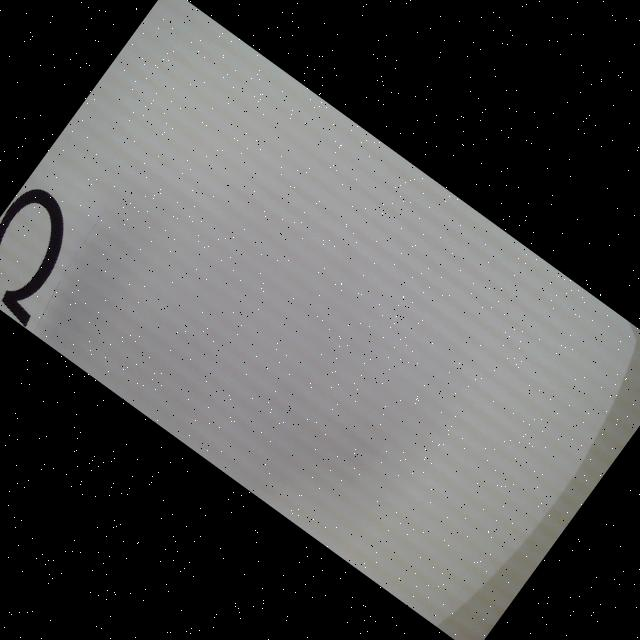OMEGA: (0, 179, 97, 328)
